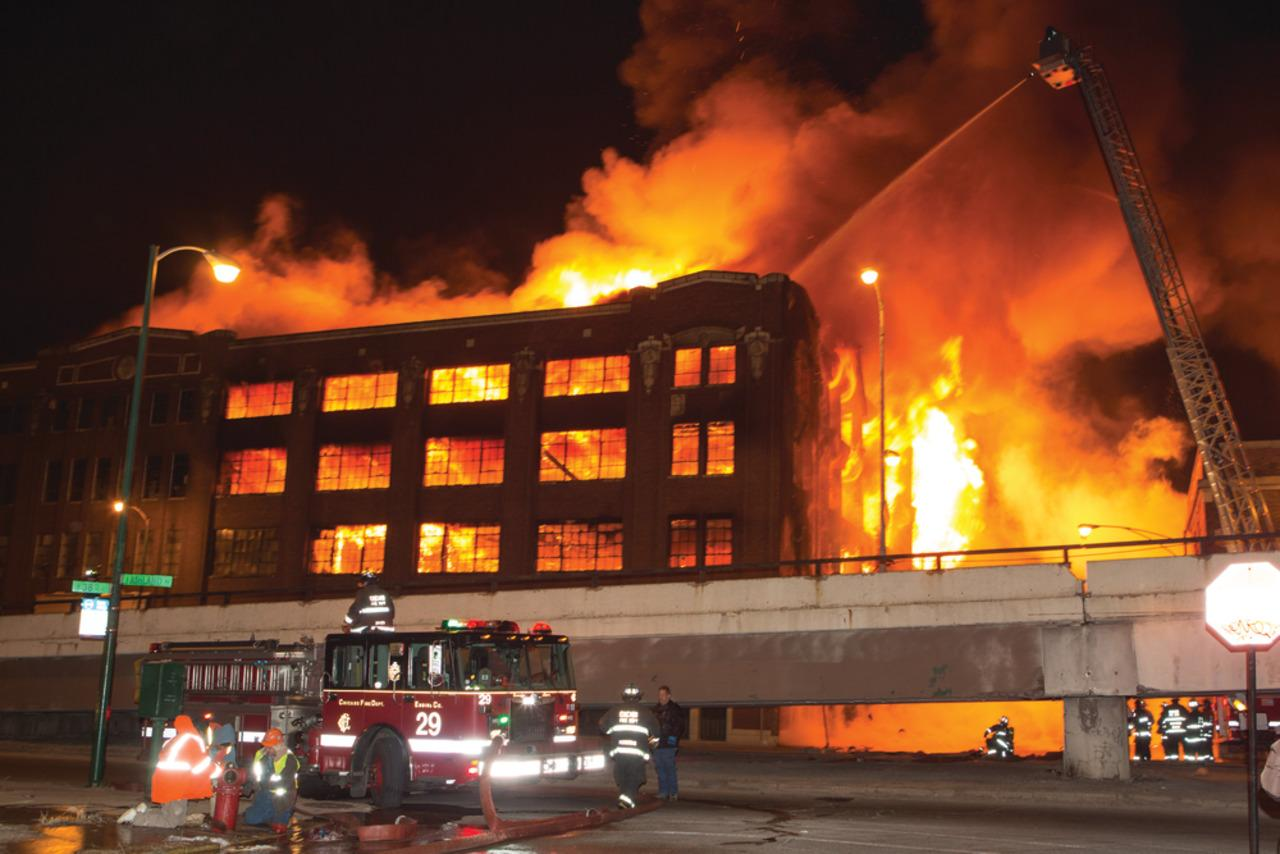Fire: (119, 224, 1201, 627)
